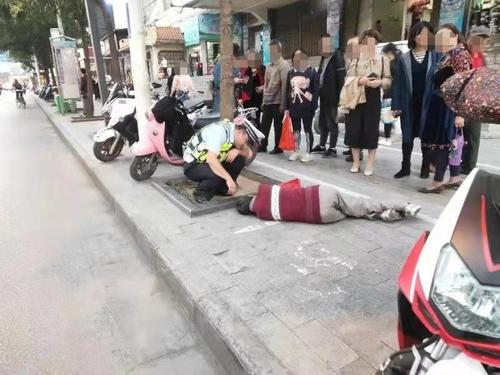10+: (1, 17, 500, 228)
down: (228, 170, 427, 228)
